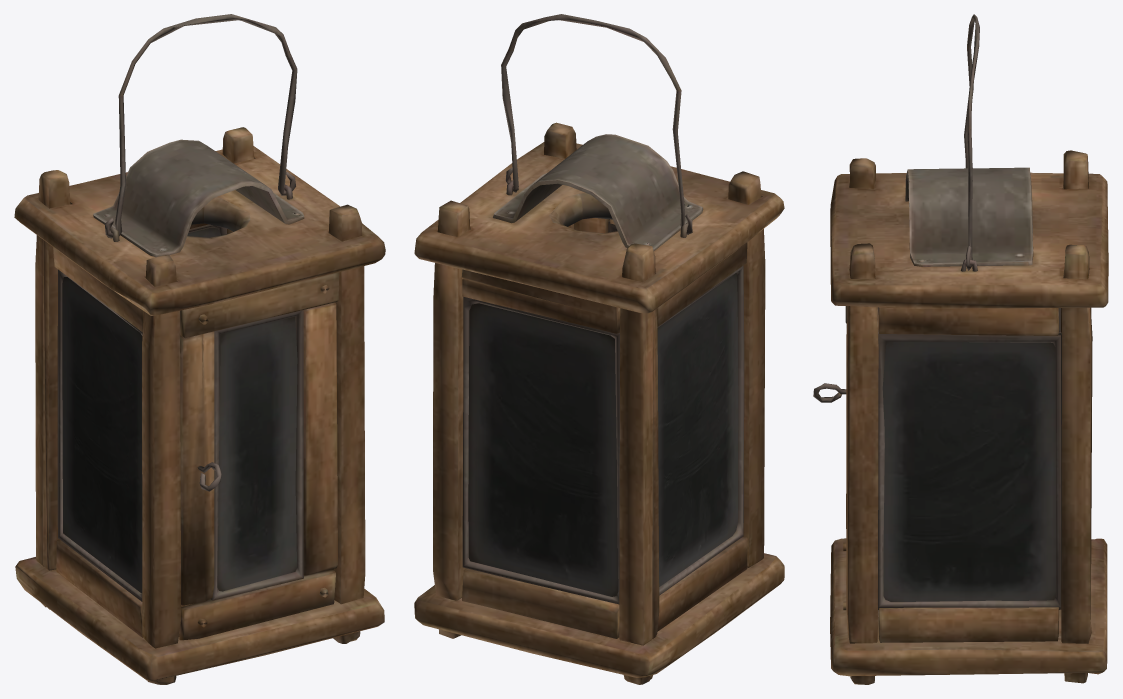
File: wooden_lantern_01.glb
3 renders of one model, left to right at view 1: azimuth 30°, elevation 25°; view 2: azimuth 150°, elevation 25°; view 3: azimuth 270°, elevation 25°, orthographic.
Parts seen in each view (by area): view 1: wooden_lantern_01; view 2: wooden_lantern_01; view 3: wooden_lantern_01.
Boxes of the visible parts, bbox=[...] form: wooden_lantern_01: bbox=[14, 14, 385, 684]; wooden_lantern_01: bbox=[414, 14, 784, 684]; wooden_lantern_01: bbox=[813, 14, 1108, 684].
Bounding box in the file's own units: 0.221 × 0.5287 × 0.234.
2 materials, 2 textured.
